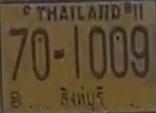0: (30, 28, 50, 80), (88, 25, 106, 78), (109, 26, 127, 78)
1: (74, 25, 81, 79)
7: (9, 27, 28, 81)
9: (130, 24, 149, 78)
SBR: (55, 85, 108, 112)
